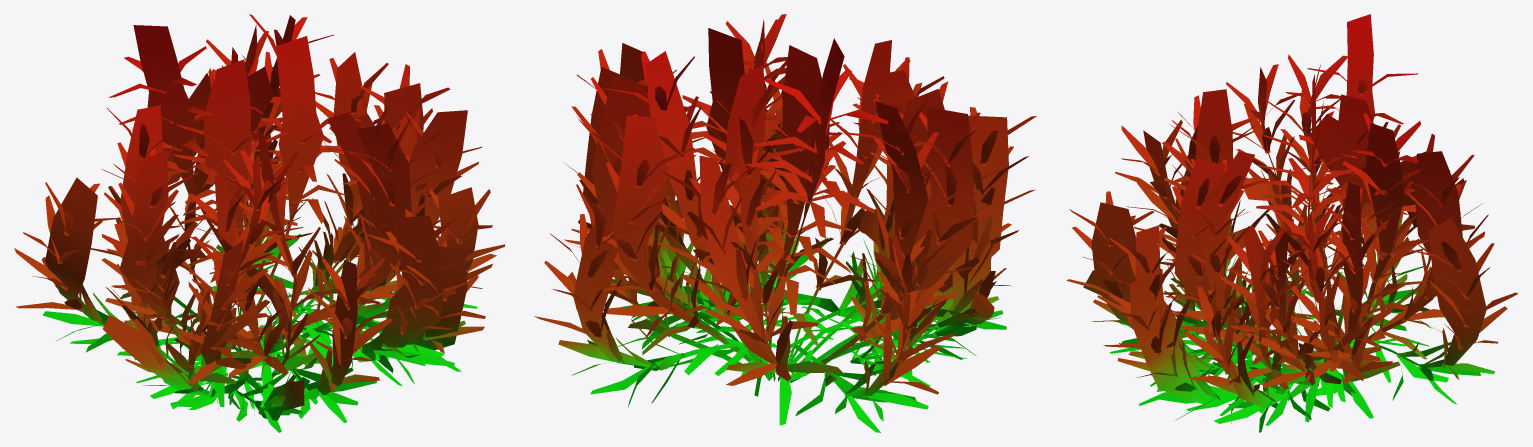
Rendered from Var7_LOD5.fbx.
3 views of the same model, side by side, from view 1: azimuth 30°, elevation 25°; view 2: azimuth 150°, elevation 25°; view 3: azimuth 270°, elevation 25° (orthographic). The views are drawn at different scales.
Visible parts, largest first — view 1: _oa1w_Var7_LOD5; view 2: _oa1w_Var7_LOD5; view 3: _oa1w_Var7_LOD5.
Part boxes in pixels (box(x1,y1,x2,y2)): _oa1w_Var7_LOD5: box(14, 14, 504, 432); _oa1w_Var7_LOD5: box(534, 14, 1036, 432); _oa1w_Var7_LOD5: box(1066, 14, 1517, 432).
Size of the model in its own units: 35.41 by 30.36 by 36.96.
